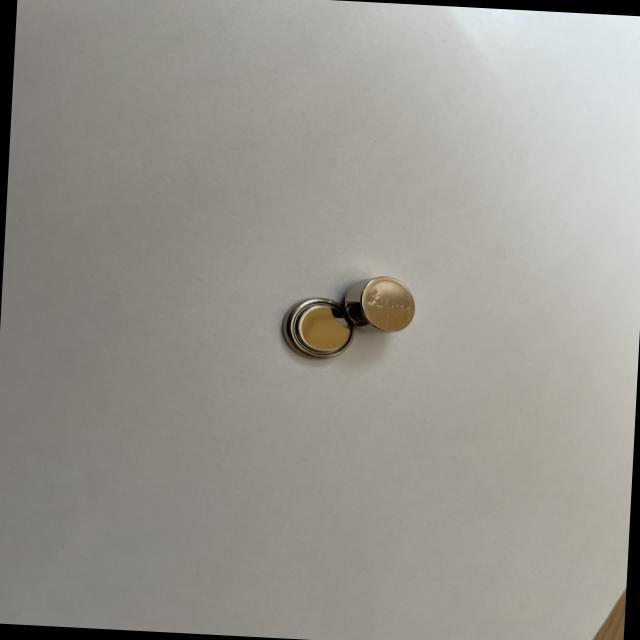COIN: (276, 296, 354, 364), (338, 274, 416, 336)
